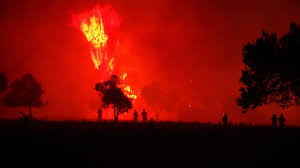fire: (79, 11, 119, 67), (118, 69, 137, 98)
smoke: (167, 5, 236, 81)
